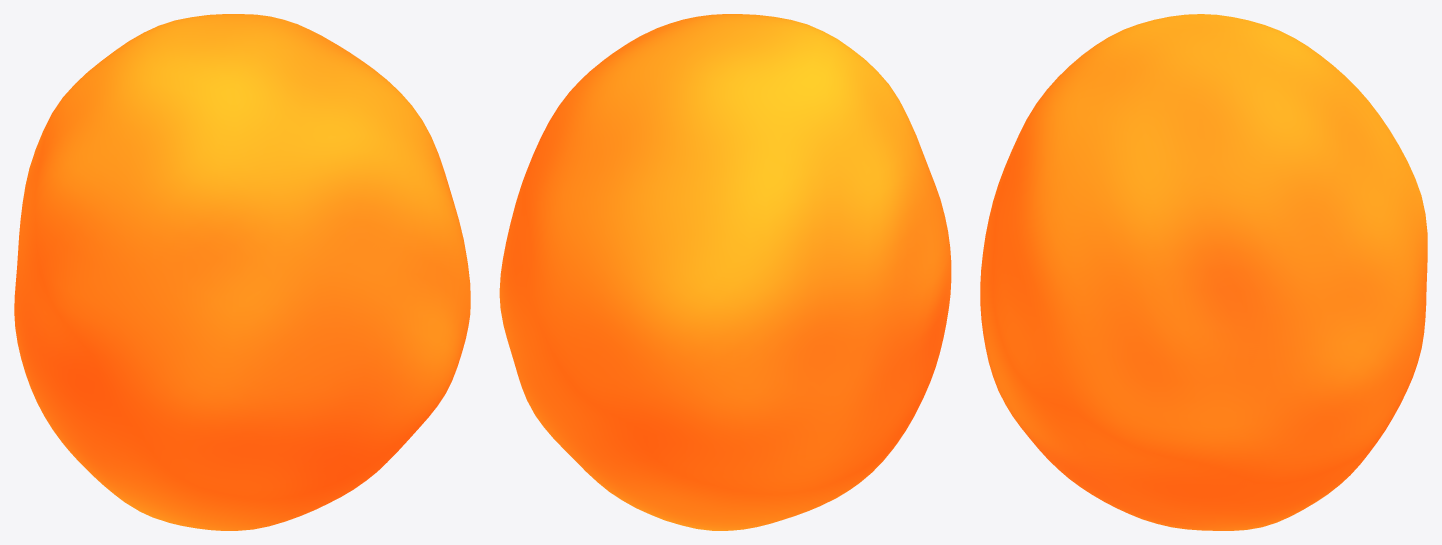
Rendered from fireball.glb.
3 renders of one model, left to right at view 1: azimuth 30°, elevation 25°; view 2: azimuth 150°, elevation 25°; view 3: azimuth 270°, elevation 25°, orthographic.
Visible parts, largest first — view 1: fireball; view 2: fireball; view 3: fireball.
Part boxes in pixels (<box>): fireball: <box>14,14,470,530</box>; fireball: <box>499,14,951,530</box>; fireball: <box>980,14,1427,530</box>.
Size of the model in its own units: 0.0644 by 0.075 by 0.0642.
